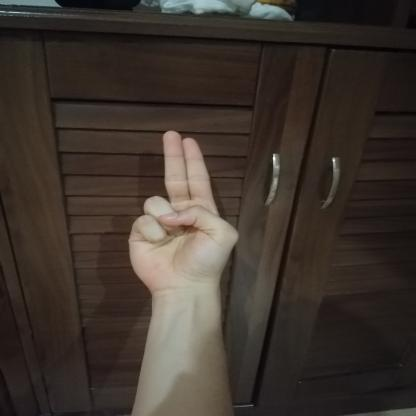TA: (107, 120, 250, 306)
